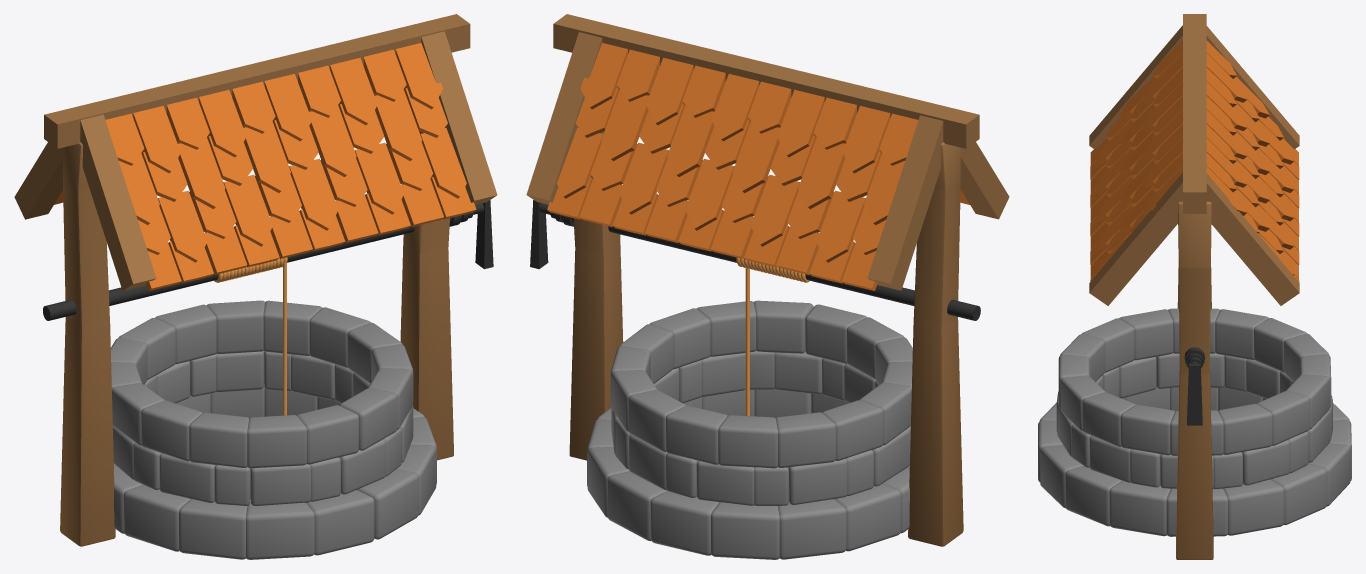
The model's file is PFE-Props-Puis.fbx.
3 renders of one model, left to right at view 1: azimuth 30°, elevation 25°; view 2: azimuth 150°, elevation 25°; view 3: azimuth 270°, elevation 25°, orthographic. The views are drawn at different scales.
Parts seen in each view (by area): view 1: Cube.008; view 2: Cube.008; view 3: Cube.008.
Part boxes in pixels (bbox=[...]): Cube.008: bbox=[14, 14, 497, 559]; Cube.008: bbox=[526, 14, 1009, 559]; Cube.008: bbox=[1038, 14, 1351, 559].
Bounding box in the file's own units: 360 × 330 × 250.
